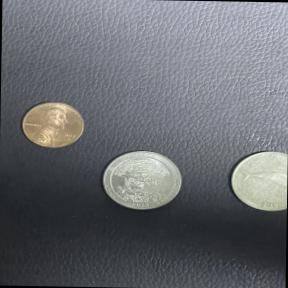coin: (96, 148, 188, 216), (15, 96, 92, 156), (224, 146, 288, 216)
